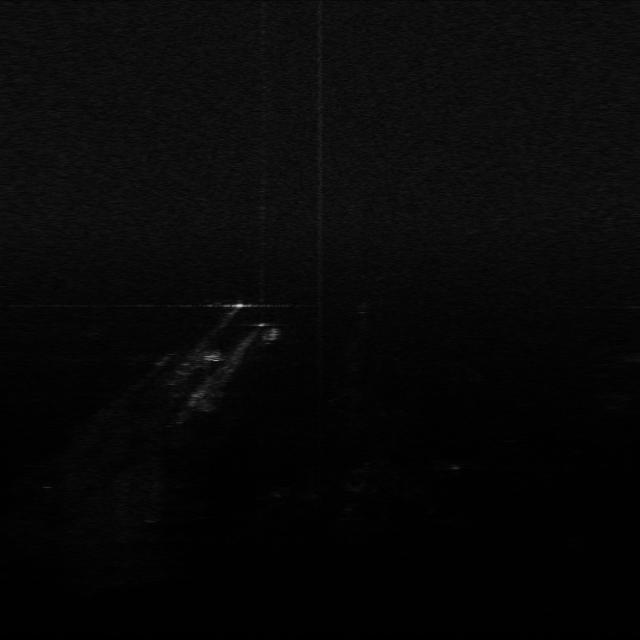rov: (196, 350, 223, 366)
